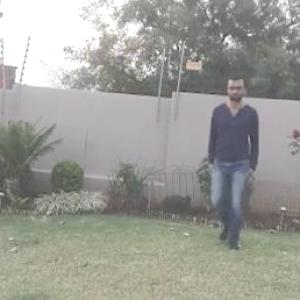follow: (202, 74, 260, 244)
